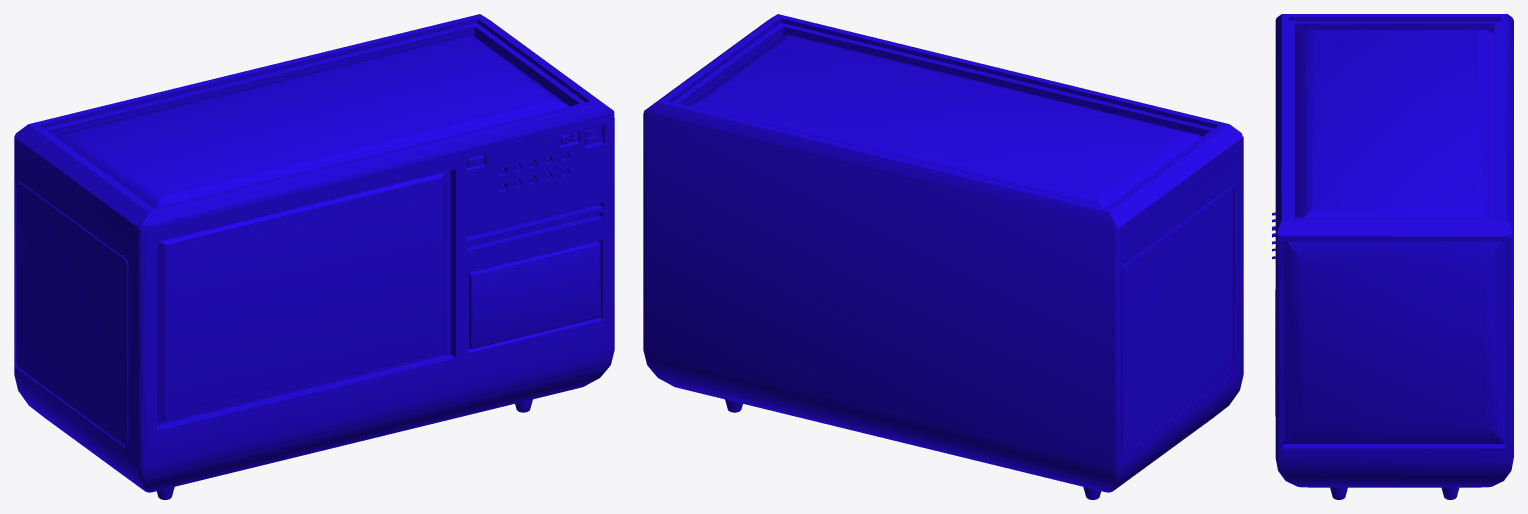
The model's file is RadioNormalAzul.fbx.
3 renders of one model, left to right at view 1: azimuth 30°, elevation 25°; view 2: azimuth 150°, elevation 25°; view 3: azimuth 270°, elevation 25°, orthographic. The views are drawn at different scales.
Parts seen in each view (by area): view 1: tv; view 2: tv; view 3: tv.
Part boxes in pixels (x1,y1,x2,y2): tv: (14,14,614,499); tv: (643,14,1243,499); tv: (1272,14,1513,499).
Bounding box in the file's own units: 349 × 223 × 164.
